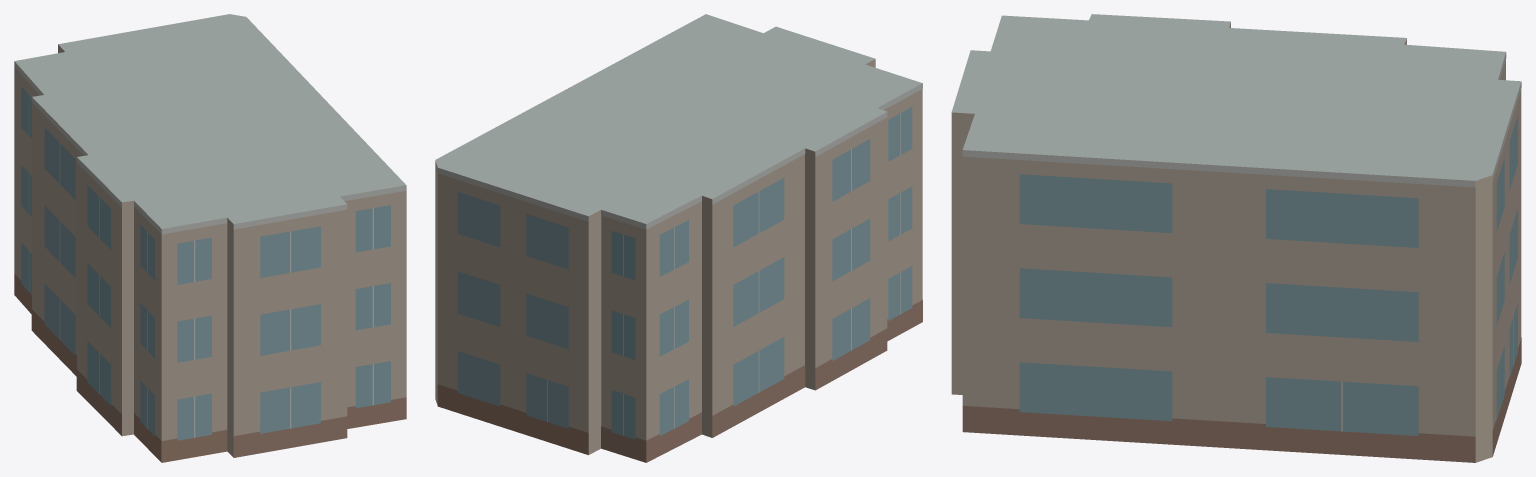
File: survey-upis-32773747.glb
The picture shows the model from 3 angles, left to right: view 1: azimuth 30°, elevation 25°; view 2: azimuth 150°, elevation 25°; view 3: azimuth 270°, elevation 25°; orthographic projection. The views are drawn at different scales.
Parts seen in each view (by area): view 1: survey-upis-32773747.tmp; view 2: survey-upis-32773747.tmp; view 3: survey-upis-32773747.tmp.
Part boxes in pixels (x1,y1,x2,y2): survey-upis-32773747.tmp: (14, 14, 406, 462); survey-upis-32773747.tmp: (435, 14, 922, 462); survey-upis-32773747.tmp: (951, 14, 1521, 462).
Bounding box in the file's own units: 13.33 × 10.5 × 19.24.
